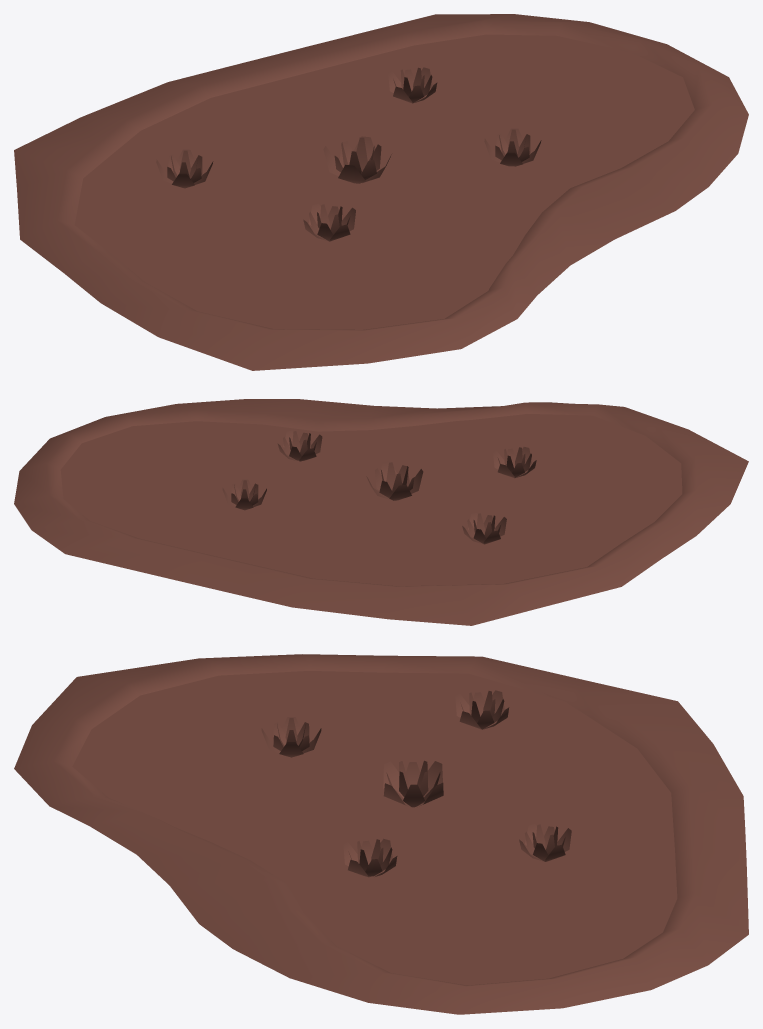
The model's file is SM_Pond.fbx.
3 views of the same model, one above another, from view 1: azimuth 30°, elevation 25°; view 2: azimuth 150°, elevation 25°; view 3: azimuth 270°, elevation 25° (orthographic). The views are drawn at different scales.
Parts seen in each view (by area): view 1: polySurface14; view 2: polySurface14; view 3: polySurface14.
Part boxes in pixels (left/top/right/bottom): polySurface14: left=14, top=14, right=748, bottom=370; polySurface14: left=14, top=399, right=748, bottom=625; polySurface14: left=14, top=654, right=748, bottom=1014.
Bounding box in the file's own units: 134 × 8.12 × 116.
